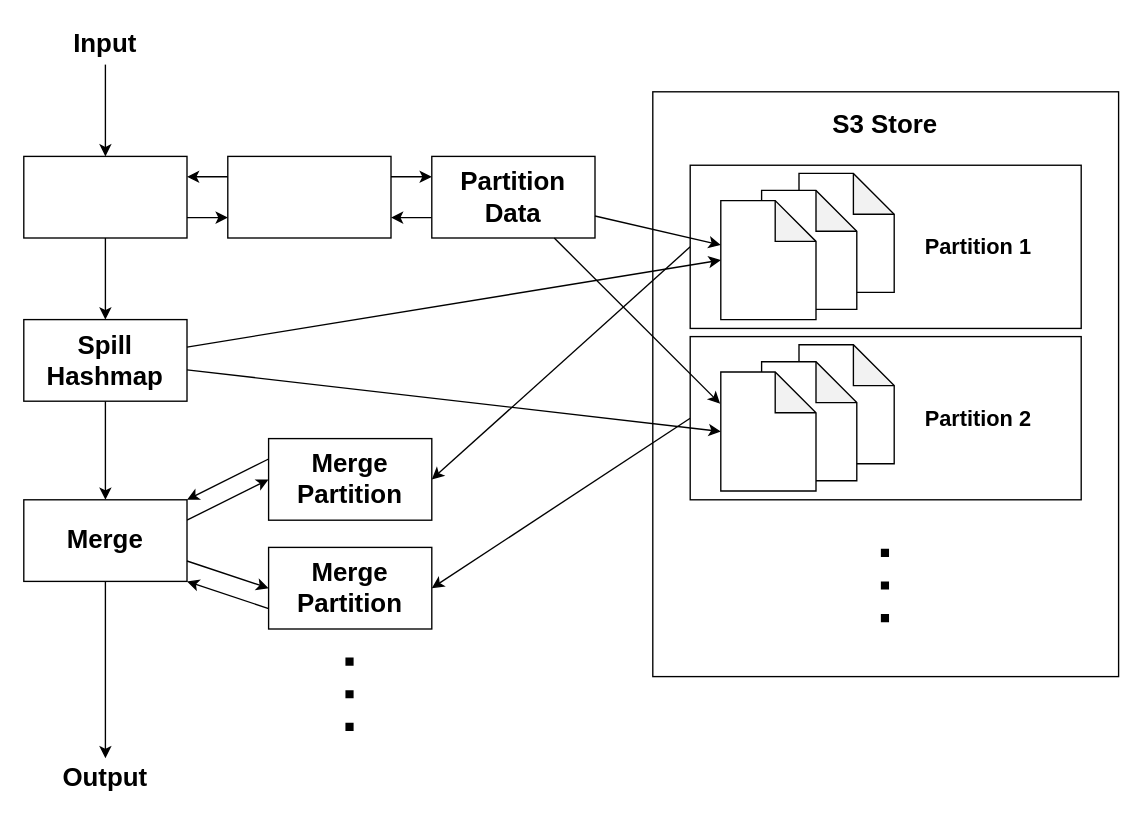
The diagram is 1142 pixels wide and 821 high, and some of its shapes have lost their labels. Each missing label, with the centre of its shape:
"Scan" goes at (104,196).
"Spill" goes at (308,196).
